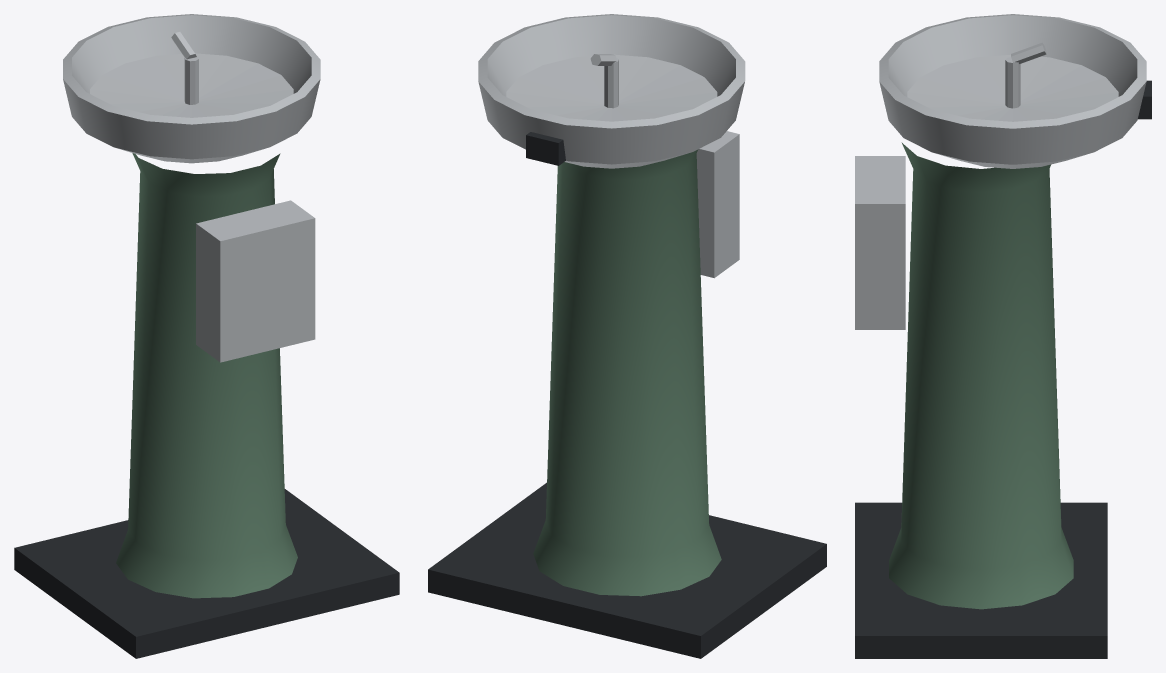
File: drinking-fountain.glb
3 views of the same model, side by side, from view 1: azimuth 30°, elevation 25°; view 2: azimuth 150°, elevation 25°; view 3: azimuth 270°, elevation 25° (orthographic). The views are drawn at different scales.
Parts seen in each view (by area): view 1: body; view 2: body; view 3: body.
Part boxes in pixels (left/top/right/bottom): body: left=14, top=14, right=399, bottom=658; body: left=428, top=14, right=826, bottom=658; body: left=855, top=14, right=1151, bottom=658.
Bounding box in the file's own units: 0.5 × 0.958 × 0.47.
